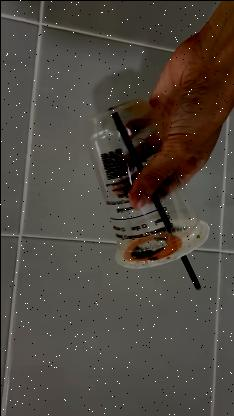Others: (80, 98, 208, 268)
